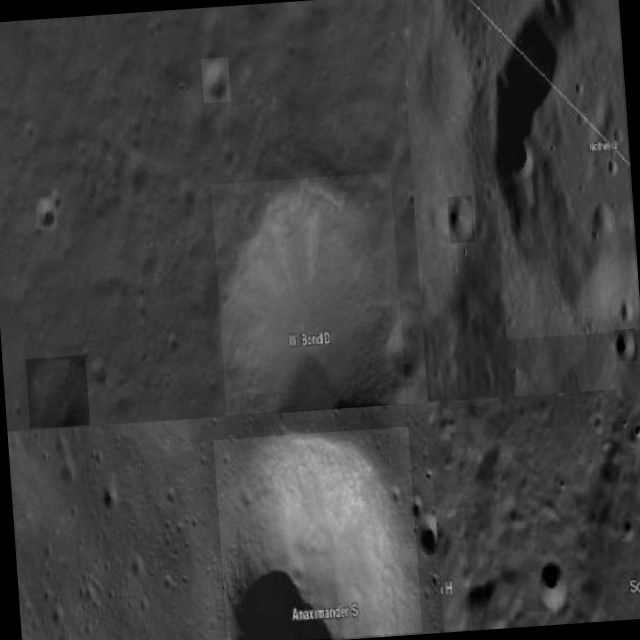crater: (481, 0, 639, 339), (210, 172, 406, 415), (213, 426, 422, 640), (25, 354, 90, 428), (435, 508, 472, 630), (534, 560, 568, 610), (200, 56, 230, 102), (447, 195, 475, 243), (416, 514, 437, 556), (614, 328, 638, 362), (36, 197, 58, 230)
